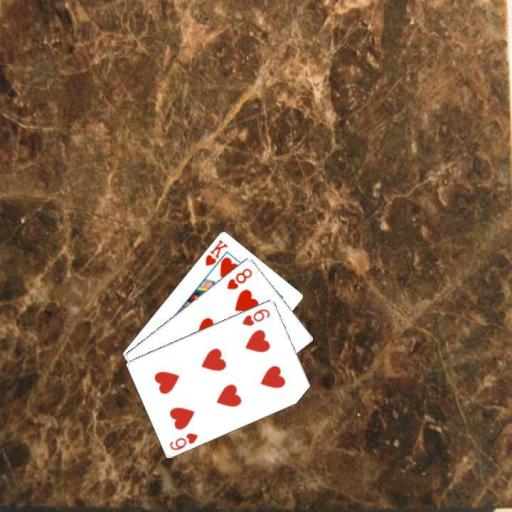6H: (239, 305, 272, 327), (167, 430, 199, 452)
8H: (223, 264, 254, 291)
KH: (202, 236, 229, 267)
